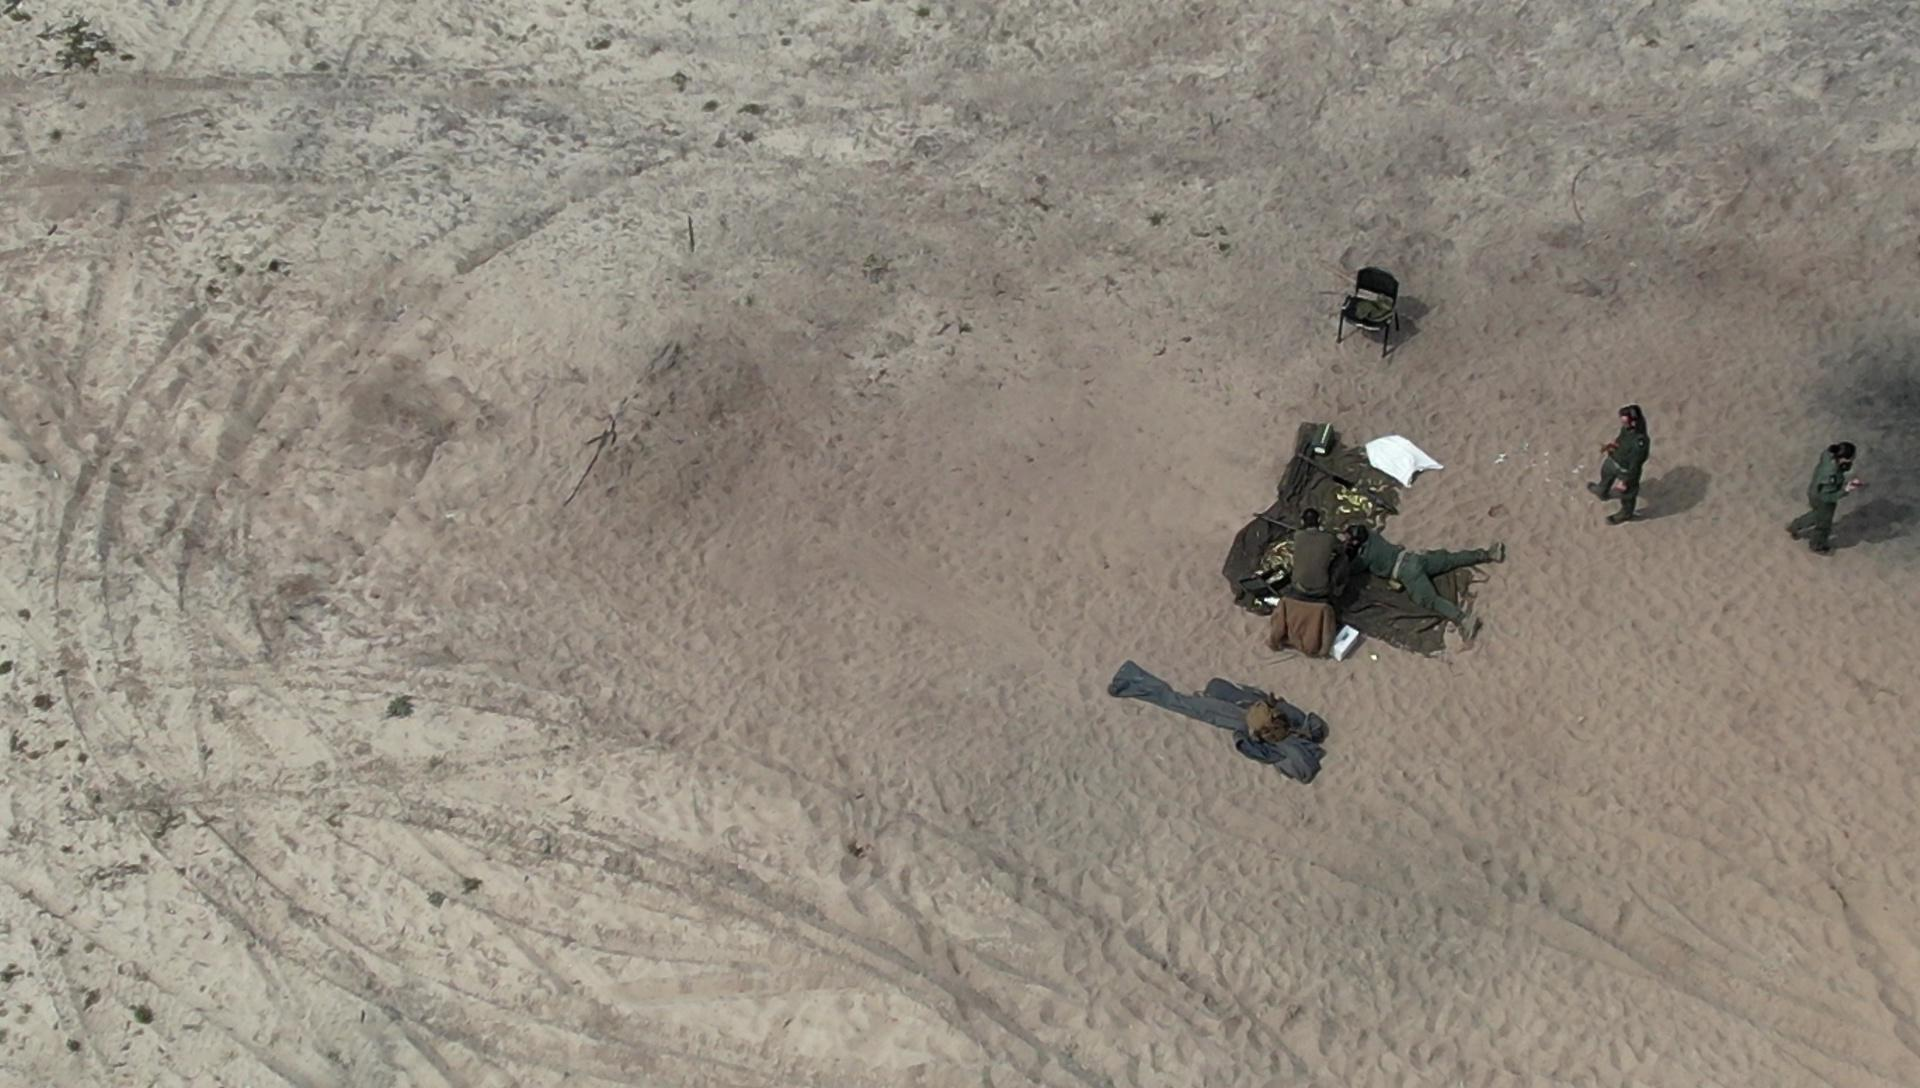Soldier: (1317, 510, 1495, 655), (1589, 406, 1677, 539), (1788, 429, 1870, 551), (1280, 495, 1361, 615)
